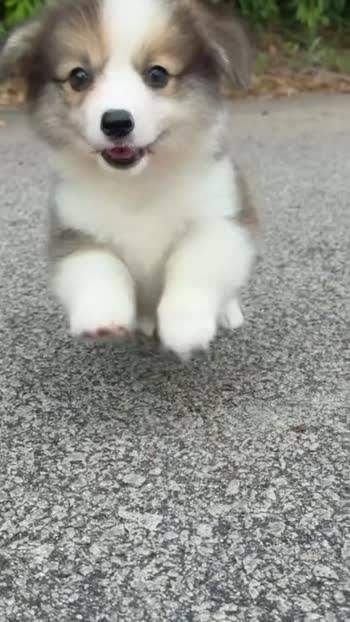puppy-dog: (1, 0, 261, 364)
